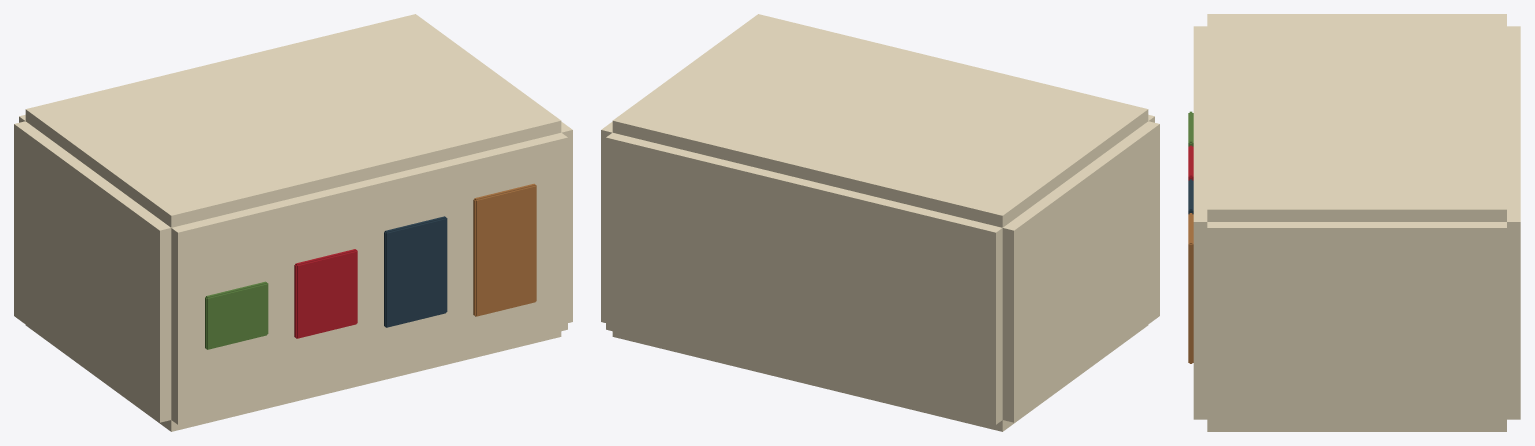
The model's file is sku_v24_building_kit.glb.
3 renders of one model, left to right at view 1: azimuth 30°, elevation 25°; view 2: azimuth 150°, elevation 25°; view 3: azimuth 270°, elevation 25°, orthographic. The views are drawn at different scales.
Parts seen in each view (by area): view 1: sku_v24_building_kit_V24_cream, sku_v24_building_kit_V24_golden_crust, sku_v24_building_kit_V24_indigo_wool, sku_v24_building_kit_V24_strawberry, sku_v24_building_kit_V24_leaf; view 2: sku_v24_building_kit_V24_cream; view 3: sku_v24_building_kit_V24_cream, sku_v24_building_kit_V24_golden_crust.
Part boxes in pixels (x1,y1,x2,y2): sku_v24_building_kit_V24_cream: [14, 14, 572, 431]; sku_v24_building_kit_V24_golden_crust: [473, 183, 536, 316]; sku_v24_building_kit_V24_indigo_wool: [384, 216, 447, 327]; sku_v24_building_kit_V24_strawberry: [294, 249, 357, 338]; sku_v24_building_kit_V24_leaf: [205, 281, 268, 349]; sku_v24_building_kit_V24_cream: [601, 14, 1159, 431]; sku_v24_building_kit_V24_cream: [1193, 14, 1520, 431]; sku_v24_building_kit_V24_golden_crust: [1188, 213, 1193, 363].
Bounding box in the file's own units: 0.18 × 0.09 × 0.122.
